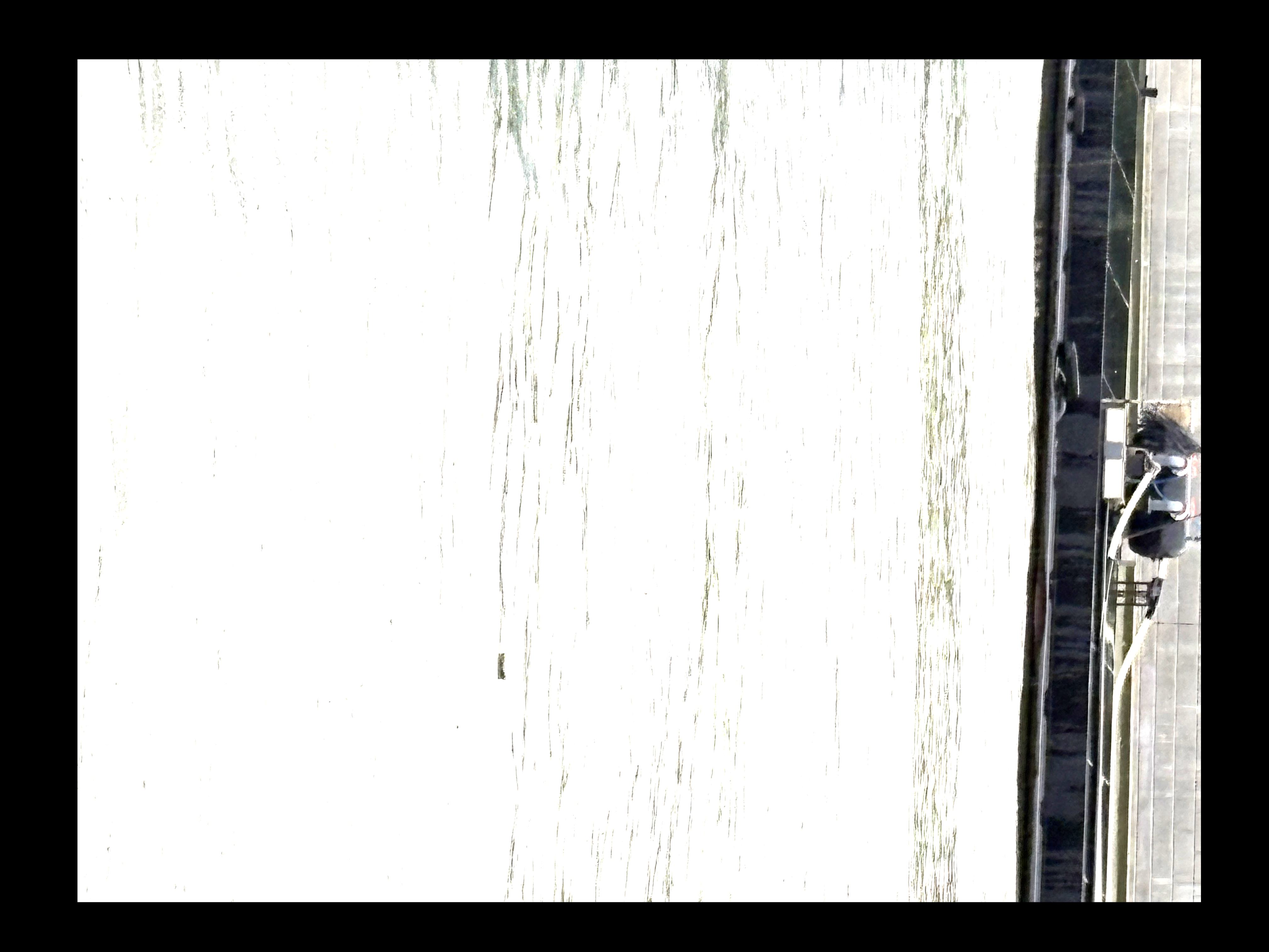Plastic wastes: (930, 346, 948, 416), (899, 642, 908, 664)
